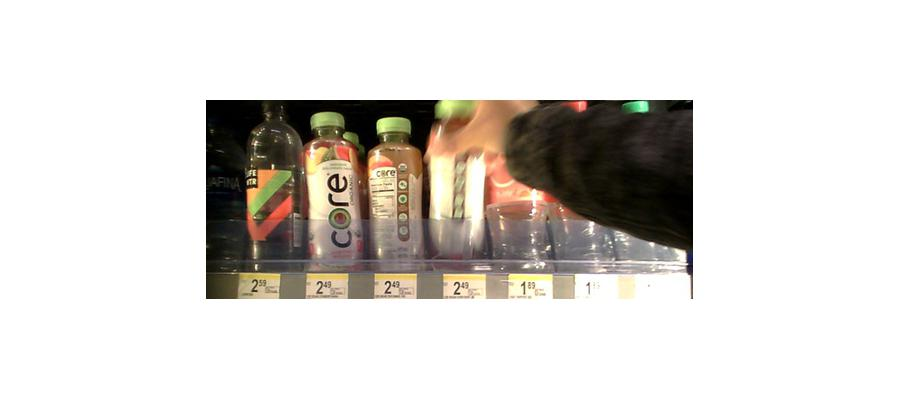bottle: (423, 96, 495, 260), (246, 98, 303, 270), (303, 110, 363, 270), (364, 112, 425, 267), (487, 129, 546, 267)
